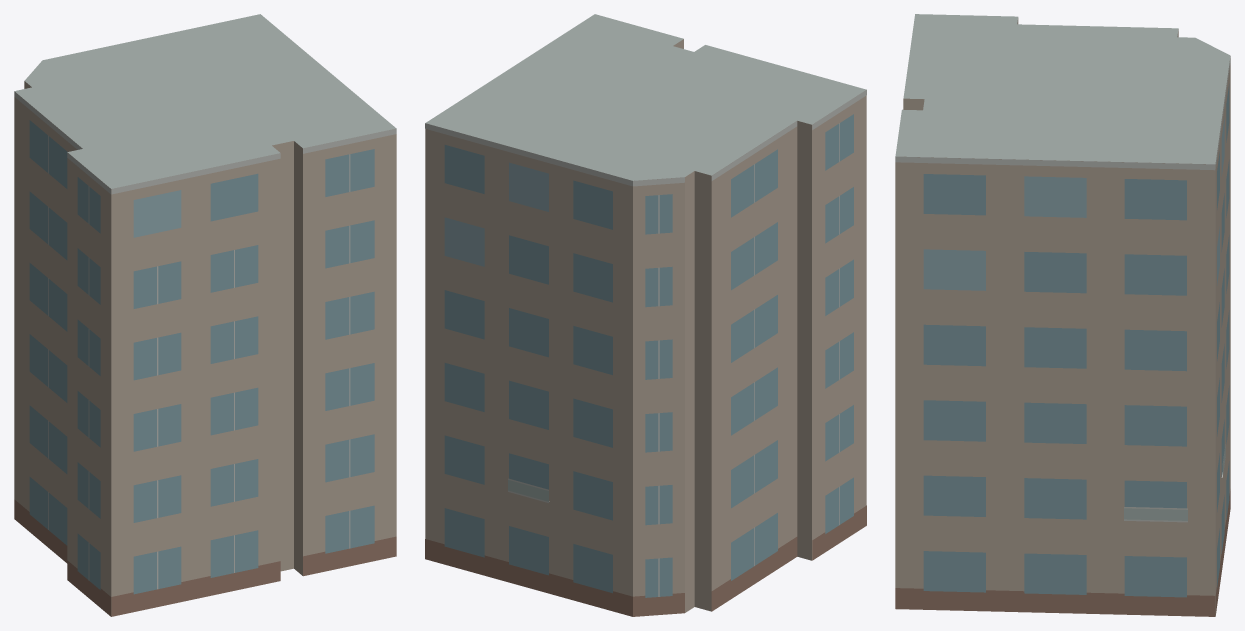
File: survey-upis-32974794.glb
The picture shows the model from 3 angles, left to right: view 1: azimuth 30°, elevation 25°; view 2: azimuth 150°, elevation 25°; view 3: azimuth 270°, elevation 25°; orthographic projection. The views are drawn at different scales.
Visible parts, largest first — view 1: survey-upis-32974794.tmp; view 2: survey-upis-32974794.tmp; view 3: survey-upis-32974794.tmp.
Part boxes in pixels (x1=…): survey-upis-32974794.tmp: x1=14, y1=14, x2=396, y2=616; survey-upis-32974794.tmp: x1=425, y1=14, x2=866, y2=616; survey-upis-32974794.tmp: x1=895, y1=14, x2=1230, y2=616.
Size of the model in its own units: 13.48 by 18.9 by 12.7.
